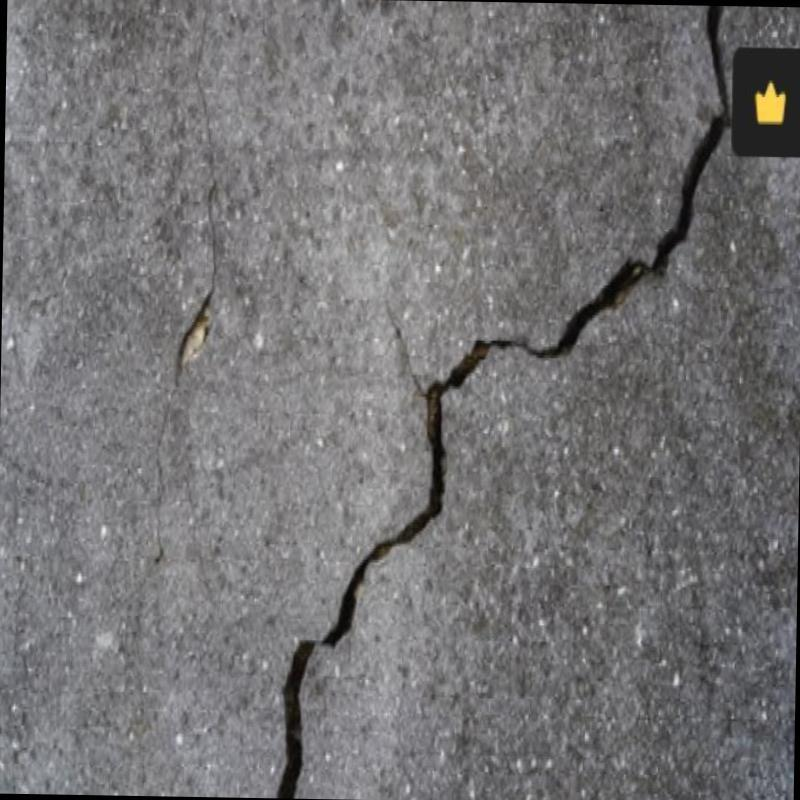pothole: (281, 5, 727, 797)
